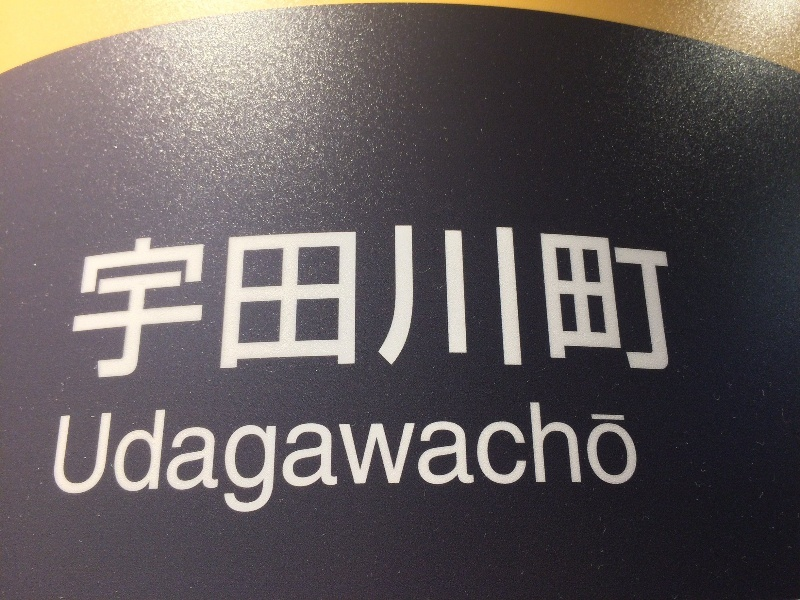text: (97, 205, 112, 384), (113, 205, 128, 384), (129, 205, 144, 384), (145, 205, 160, 384), (161, 205, 176, 384), (177, 205, 192, 384), (193, 205, 208, 384), (209, 205, 224, 384), (225, 205, 240, 384), (241, 205, 256, 384), (257, 205, 272, 384), (273, 205, 288, 384), (289, 205, 304, 384), (305, 205, 320, 384), (321, 205, 336, 384), (337, 205, 352, 384), (353, 205, 368, 384), (369, 205, 384, 384), (385, 205, 400, 384), (401, 205, 416, 384), (417, 205, 432, 384), (433, 205, 448, 384), (449, 205, 464, 384), (465, 205, 480, 384), (481, 205, 496, 384), (497, 205, 512, 384), (513, 205, 528, 384), (529, 205, 544, 384), (545, 205, 560, 384), (561, 205, 576, 384), (577, 205, 592, 384), (593, 205, 608, 384), (609, 205, 624, 384), (625, 205, 640, 384), (641, 205, 656, 384), (657, 205, 672, 384), (82, 205, 96, 384), (65, 395, 80, 532), (81, 395, 96, 532), (97, 395, 112, 532), (113, 395, 128, 532), (129, 395, 144, 532), (145, 395, 160, 532), (161, 395, 176, 532), (177, 395, 192, 532), (193, 395, 208, 532), (209, 395, 224, 532), (225, 395, 240, 532), (241, 395, 256, 532), (257, 395, 272, 532), (273, 395, 288, 532), (289, 395, 304, 532), (305, 395, 320, 532), (321, 395, 336, 532), (337, 395, 352, 532), (353, 395, 368, 532), (369, 395, 384, 532), (385, 395, 400, 532), (401, 395, 416, 532), (417, 395, 432, 532), (433, 395, 448, 532), (449, 395, 464, 532), (465, 395, 480, 532), (481, 395, 496, 532), (497, 395, 512, 532), (513, 395, 528, 532), (529, 395, 544, 532), (545, 395, 560, 532), (561, 395, 576, 532), (577, 395, 592, 532), (593, 395, 608, 532), (609, 395, 624, 532), (625, 395, 640, 532), (56, 395, 64, 532), (641, 395, 643, 532)
